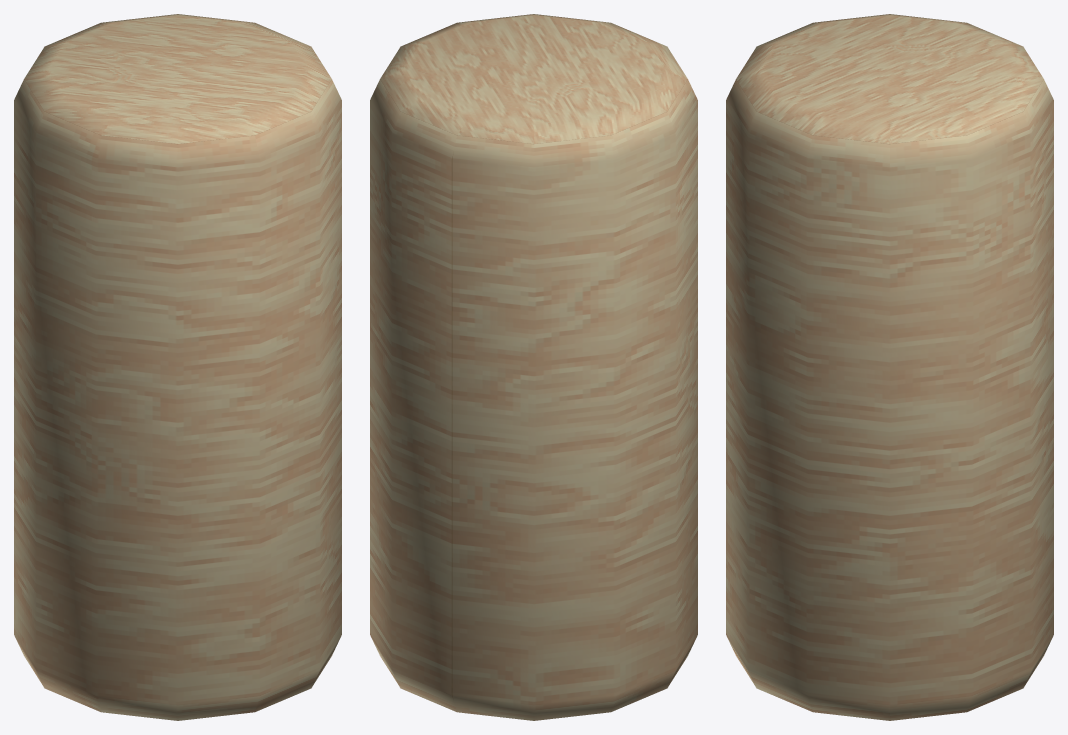
File: CylinderA.fbx
The picture shows the model from 3 angles, left to right: view 1: azimuth 30°, elevation 25°; view 2: azimuth 150°, elevation 25°; view 3: azimuth 270°, elevation 25°; orthographic projection.
Visible parts, largest first — view 1: CylinderA; view 2: CylinderA; view 3: CylinderA.
Boxes of the visible parts, x1=… form: CylinderA: x1=14, y1=14, x2=341, y2=720; CylinderA: x1=370, y1=14, x2=697, y2=720; CylinderA: x1=726, y1=14, x2=1053, y2=720.
Size of the model in its own units: 1 by 1 by 2.
1 material, 1 textured.
